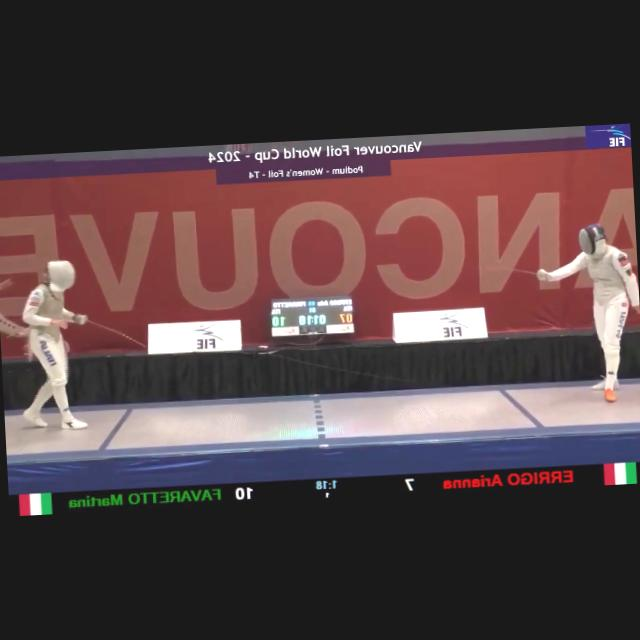blade: (80, 310, 154, 354), (491, 263, 552, 284)
